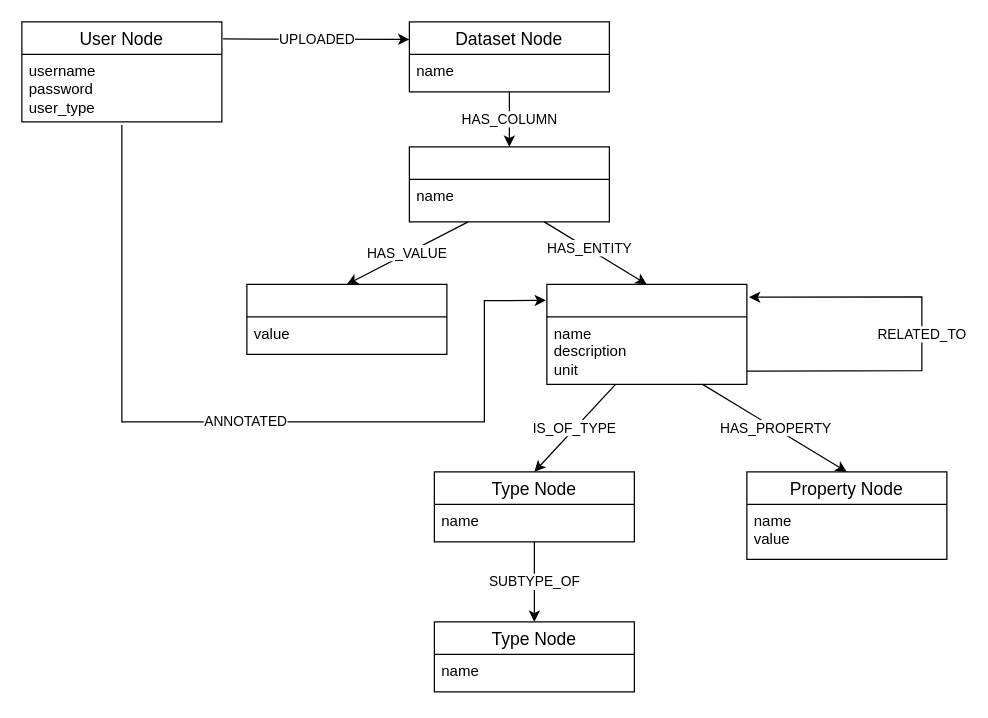
The diagram is 988 pixels wide and 718 high, and some of its shapes have lost their labels. Here are the shapes that lost their labels. From the top down, the box of each, then its label:
(408, 146, 609, 222): Column Node
(246, 283, 447, 354): Value Node
(546, 283, 747, 384): Entity Node
